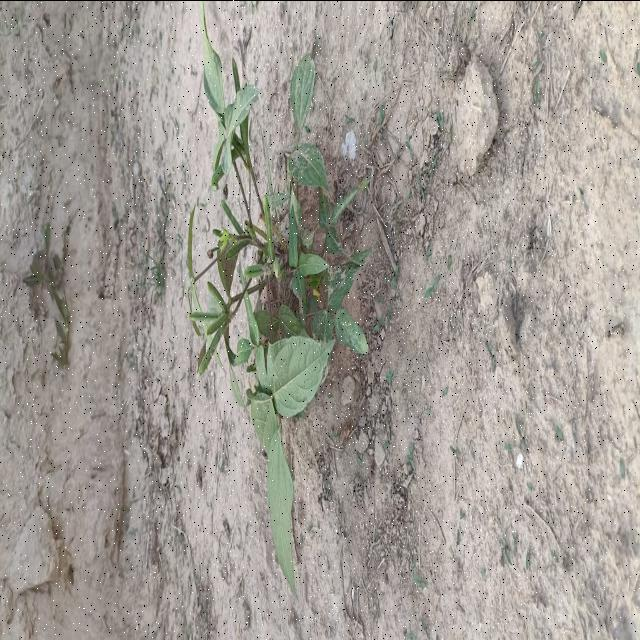plant: (186, 3, 369, 594)
